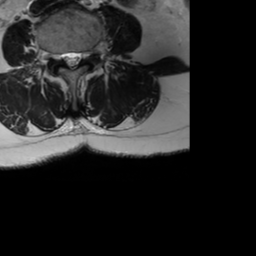CCS_normal: (67, 44, 75, 75)
LFS_stenosis: (82, 43, 90, 66)
LLS_normal: (75, 46, 82, 71)
RFS_stenosis: (52, 44, 60, 66)
RLS_stenosis: (60, 44, 67, 68)
